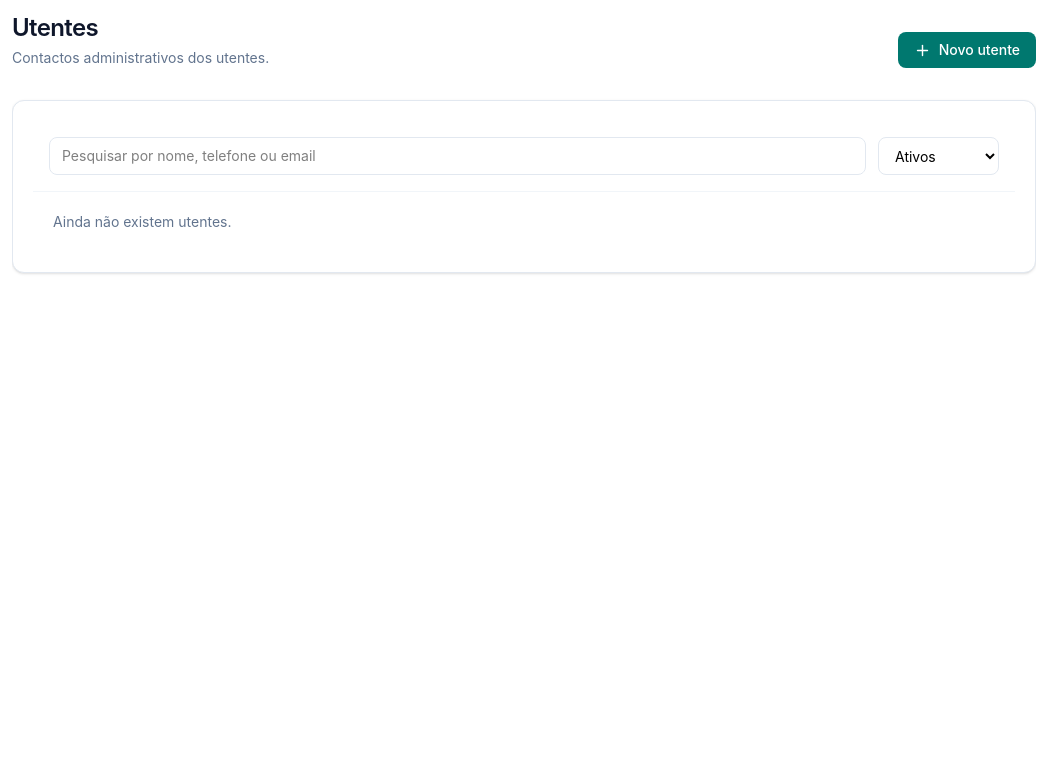
Test: cria e pesquisa um utente sem dados demonstrativos
Expected: the text "Ainda não existem utentes." is shown, [53,213,232,230]
Click the button "Novo utente": click(967, 50) [898,32,1036,68]
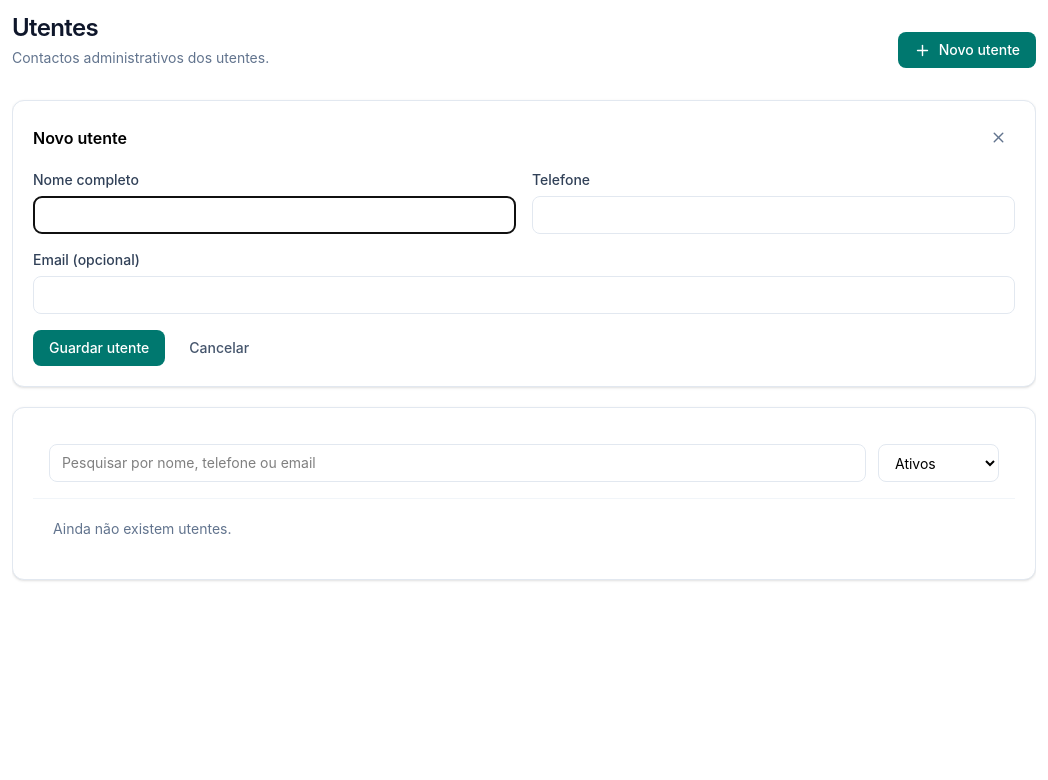
In the field labelled "Nome completo": (274, 215) [33,196,516,234], type "Utente Fictício de Teste"
In the field labelled "Telefone": (774, 215) [532,196,1015,234], type "910000001"
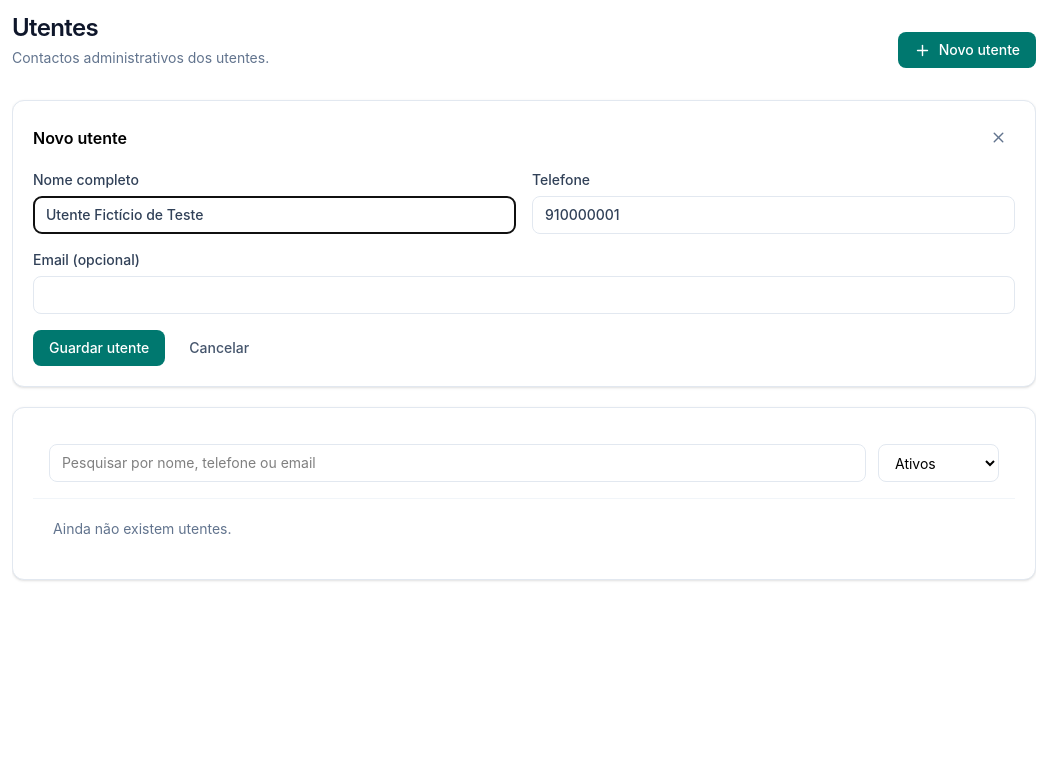
In the field labelled "Email (opcional)": (524, 295) [33,276,1015,314], type "teste@example.invalid"
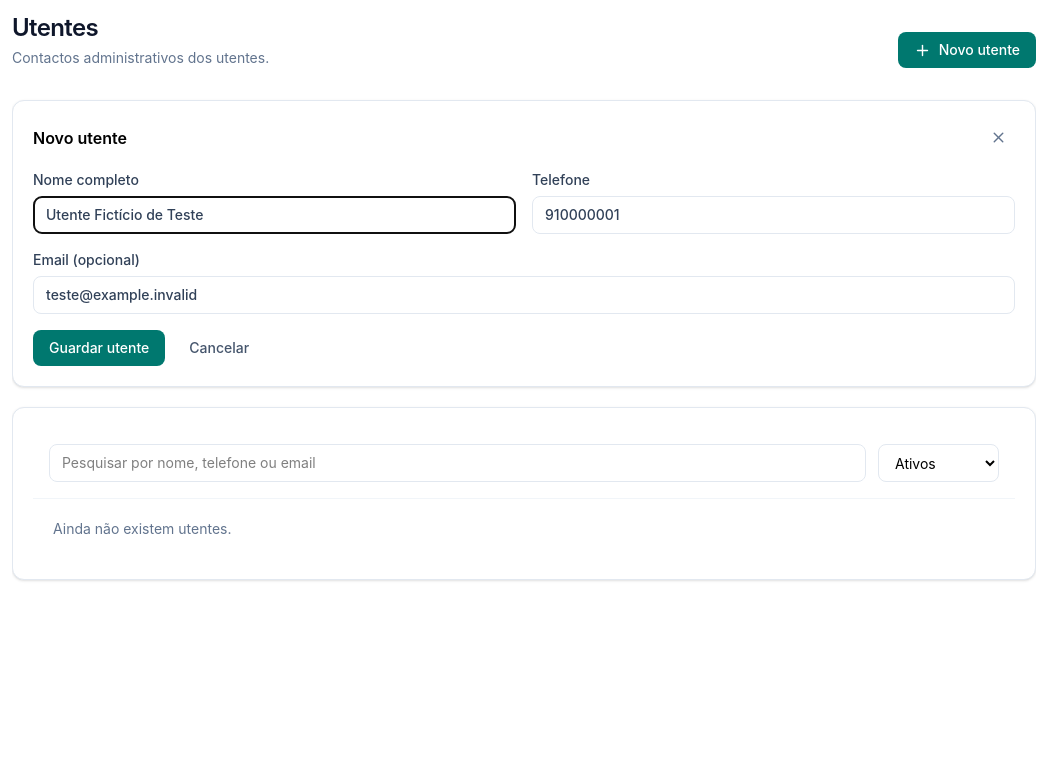
Click the button "Guardar utente": click(99, 348) [33,330,165,366]
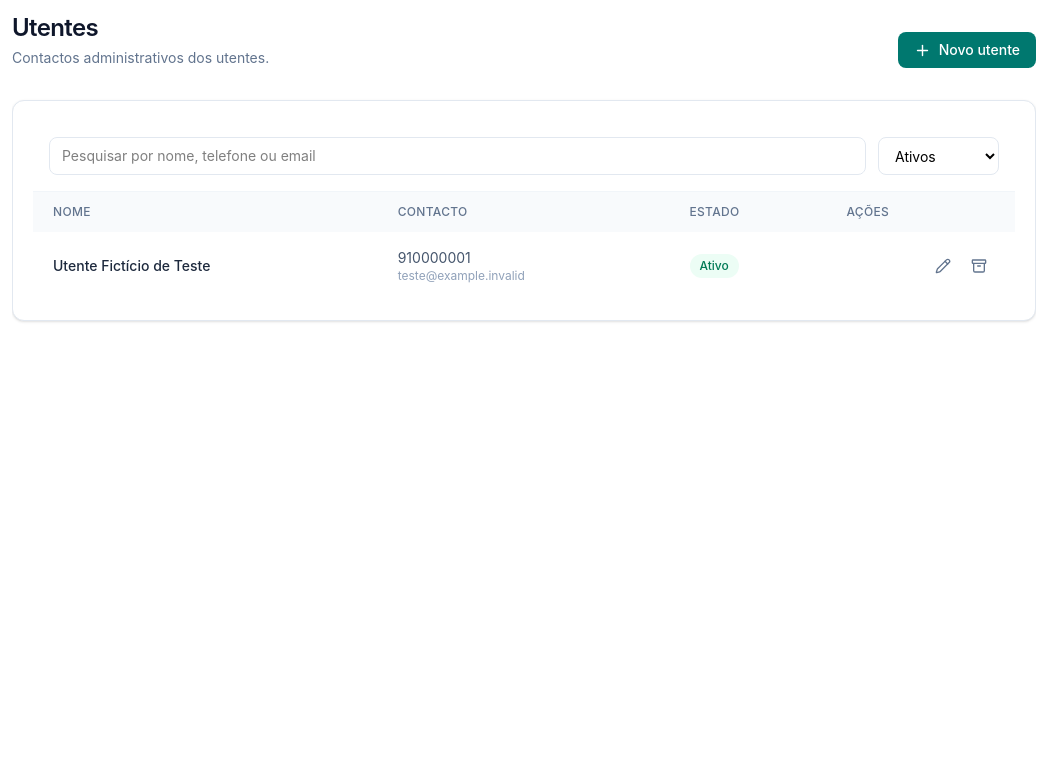
Now the text "Utente Fictício de Teste" is shown, box [53,257,210,274]
In the search field named "Pesquisar utentes": (458, 156) [49,137,866,175], type "910000001"
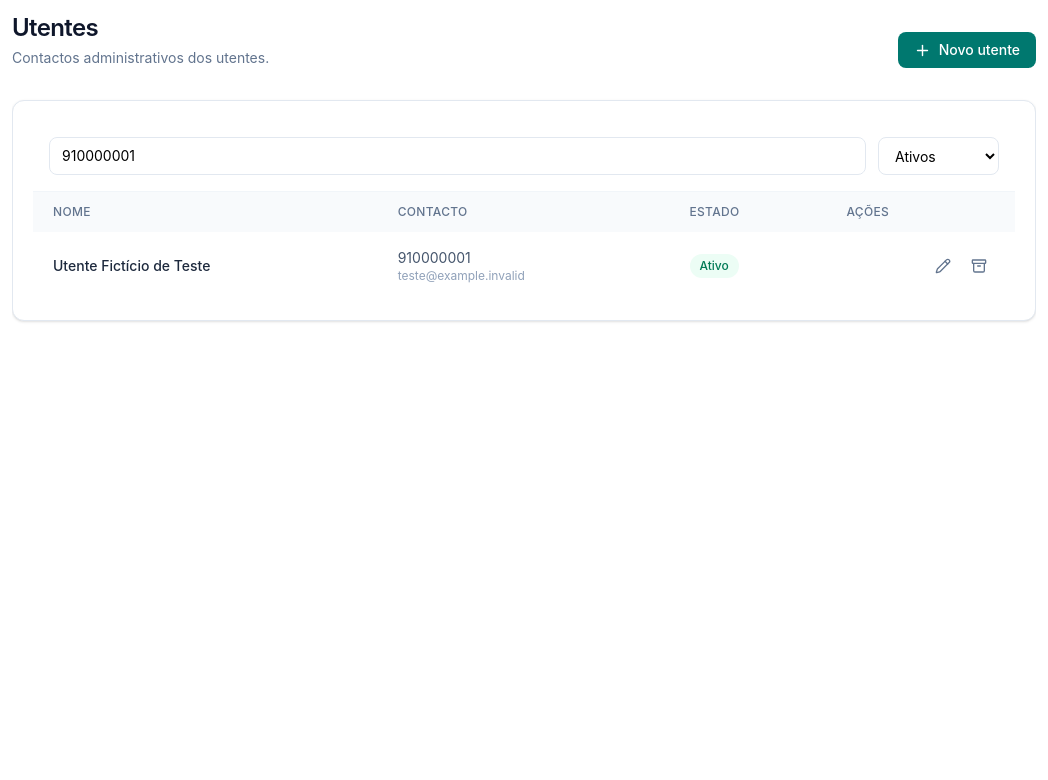
Now the text "Utente Fictício de Teste" is shown, box [53,257,210,274]
Replace the text in the search field named "Pesquisar utentes" with "inexistente": (458, 156) [49,137,866,175]
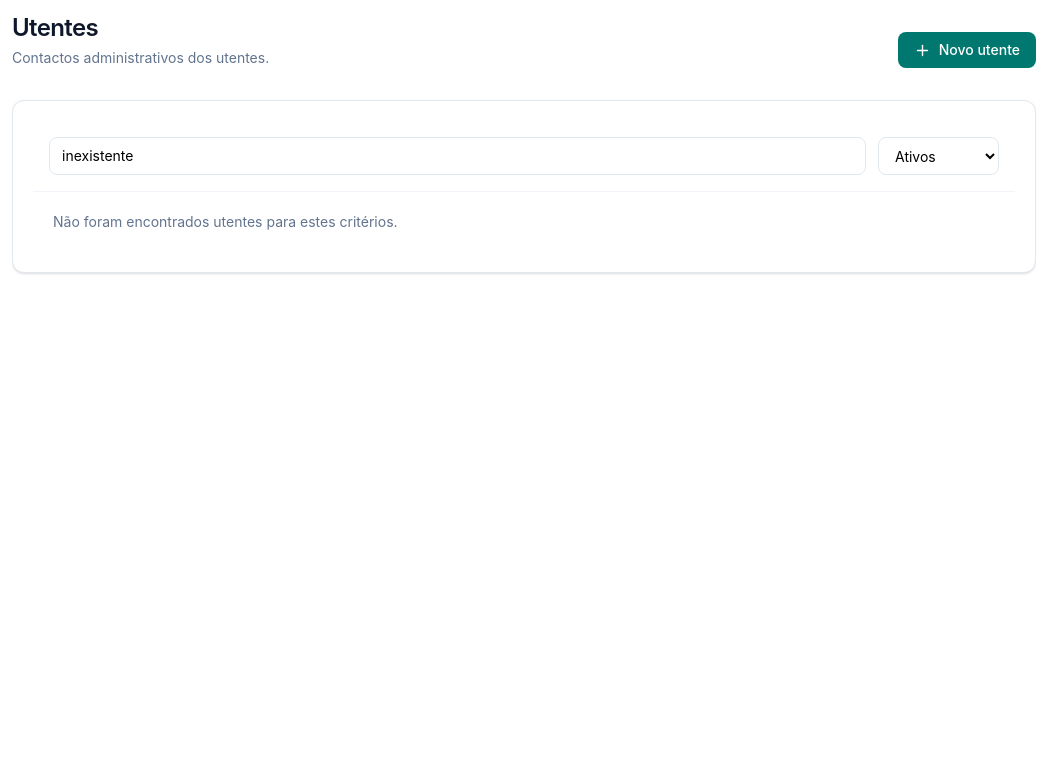
Now the text "Não foram encontrados utentes para estes critérios." is shown, box [53,213,398,230]
